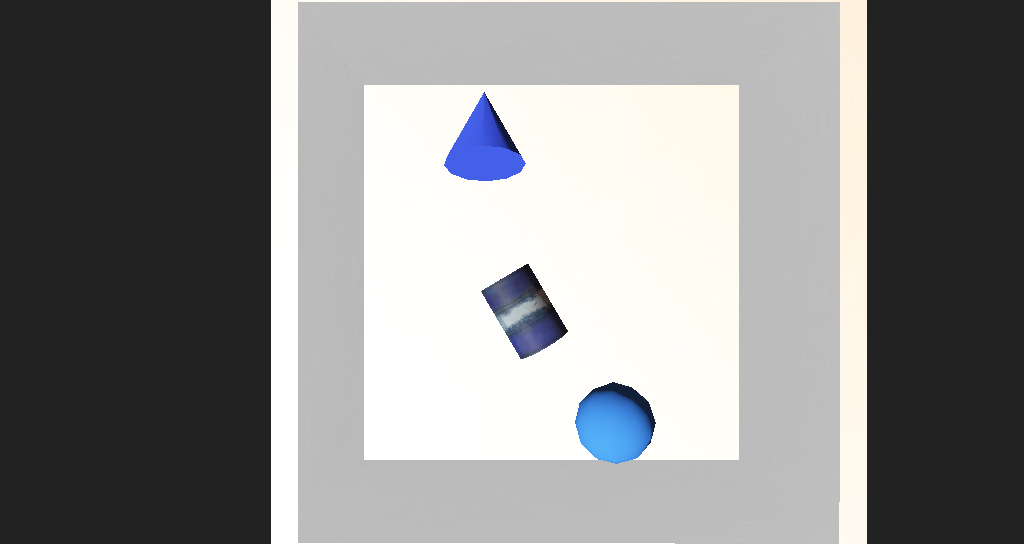cone: (448, 262, 522, 320)
cylinder: (421, 155, 482, 217)
sphere: (529, 332, 589, 375)
